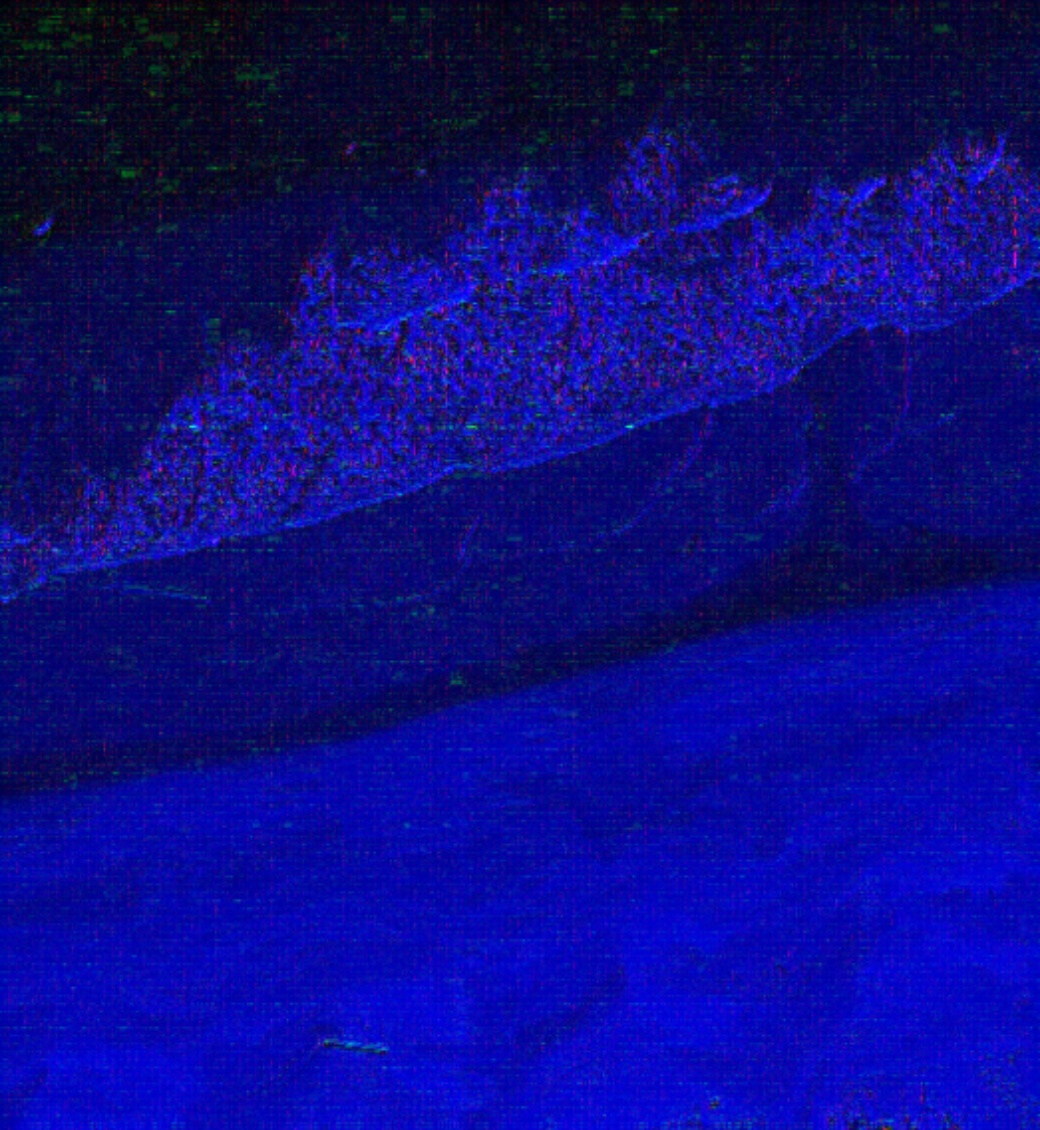rip_current: (752, 214, 860, 409)
